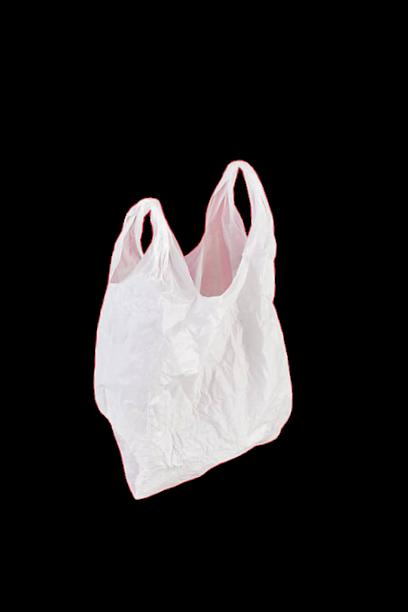Plastik: (85, 149, 317, 510)
